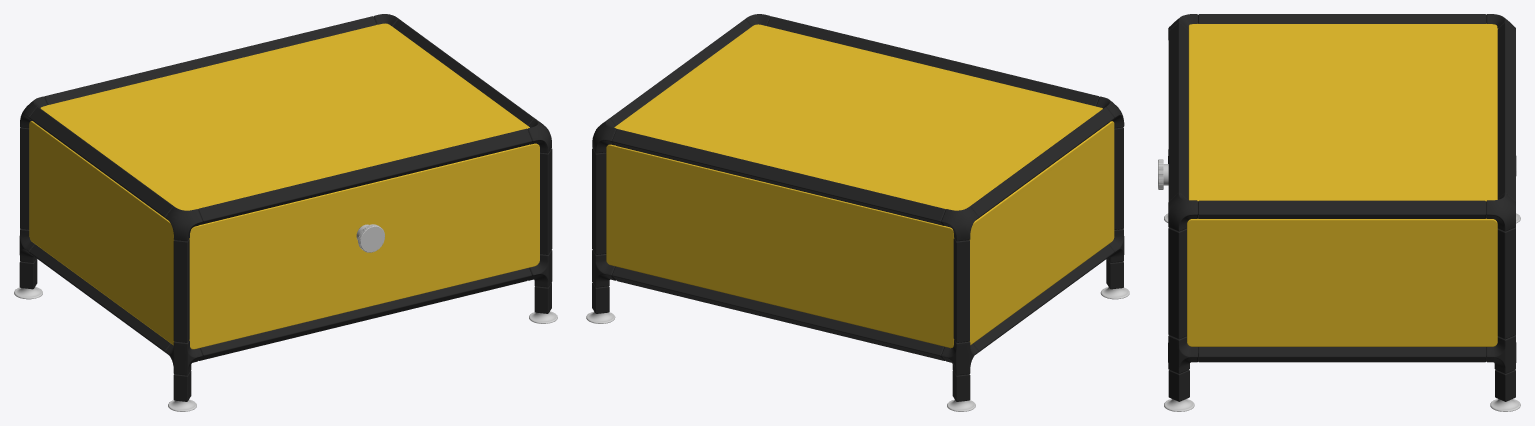
3 views of the same model, side by side, from view 1: azimuth 30°, elevation 25°; view 2: azimuth 150°, elevation 25°; view 3: azimuth 270°, elevation 25° (orthographic). The views are drawn at different scales.
Visible parts, largest first — view 1: 523x374x154; view 2: 523x374x154; view 3: 523x374x154.
Boxes of the visible parts, <box> form: 523x374x154: <box>14,14,557,411</box>; 523x374x154: <box>586,14,1129,411</box>; 523x374x154: <box>1158,14,1520,411</box>.
Bounding box in the file's own units: 0.6129 × 0.2932 × 0.4707.
